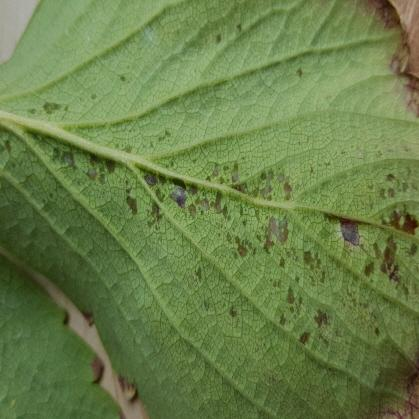Angular Leafspot: (0, 0, 418, 418)
